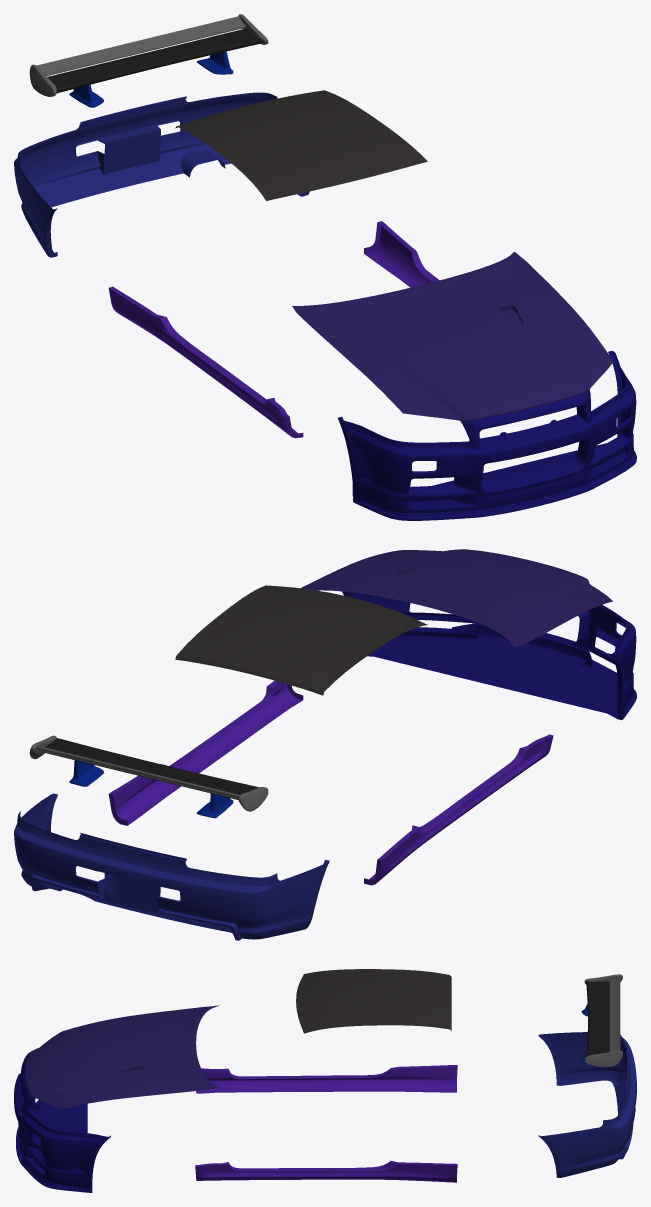
Rendered from r34upgrade.FBX.
3 renders of one model, top to bottom at view 1: azimuth 30°, elevation 25°; view 2: azimuth 150°, elevation 25°; view 3: azimuth 270°, elevation 25°, orthographic. The views are drawn at different scales.
Visible parts, largest first — view 1: bonnet, Entity03, roof, Entity46, Entity41, Entity55, Entity05, Entity04, Entity56, Entity40; view 2: Entity46, roof, bonnet, Entity05, Entity40, Entity03, Entity41, Entity55, Entity04, Entity56, Entity51; view 3: bonnet, roof, Entity46, Entity41, Entity03, Entity40, Entity05, Entity55, Entity56, Entity04, Entity53.
Boxes of the visible parts, x1,y1,x2,y2 form: bonnet: (292,252,613,423); Entity03: (338,350,636,501); roof: (175,90,427,200); Entity46: (14,92,309,257); Entity41: (108,286,303,438); Entity55: (47,28,263,93); Entity05: (353,431,636,520); Entity04: (352,418,633,513); Entity56: (36,16,245,76); Entity40: (364,221,439,287); Entity46: (14,793,329,940); roof: (175,585,427,695); bonnet: (301,549,613,647); Entity05: (367,631,636,720); Entity40: (108,680,303,825); Entity03: (341,578,636,702); Entity41: (364,734,553,885); Entity55: (42,738,258,799); Entity04: (408,623,633,715); Entity56: (36,747,239,799); Entity51: (69,760,103,786); bonnet: (26,1005,219,1109); roof: (296,969,451,1033); Entity46: (538,1032,636,1177); Entity41: (196,1065,457,1093); Entity03: (14,1052,110,1179); Entity40: (195,1161,457,1182); Entity05: (16,1102,92,1192); Entity55: (586,981,609,1056); Entity56: (609,976,620,1051); Entity04: (18,1099,92,1189); Entity53: (584,1050,622,1067).
Bounding box in the file's own units: 3906 × 2662 × 10093.
